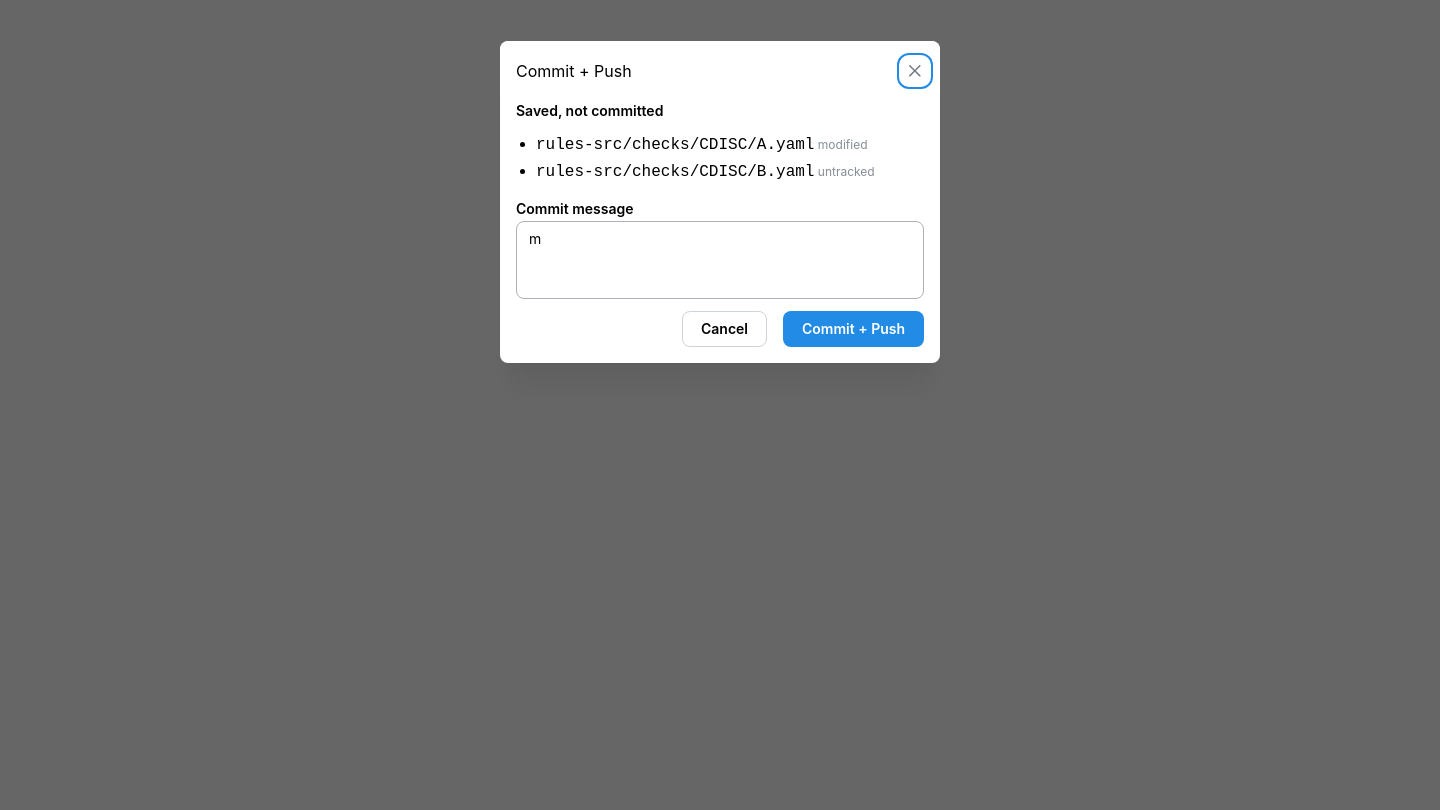
Test: CommitPushDialog › shows a plain error
Click the button "Commit + Push" at (854, 329), box [783,311,924,347]
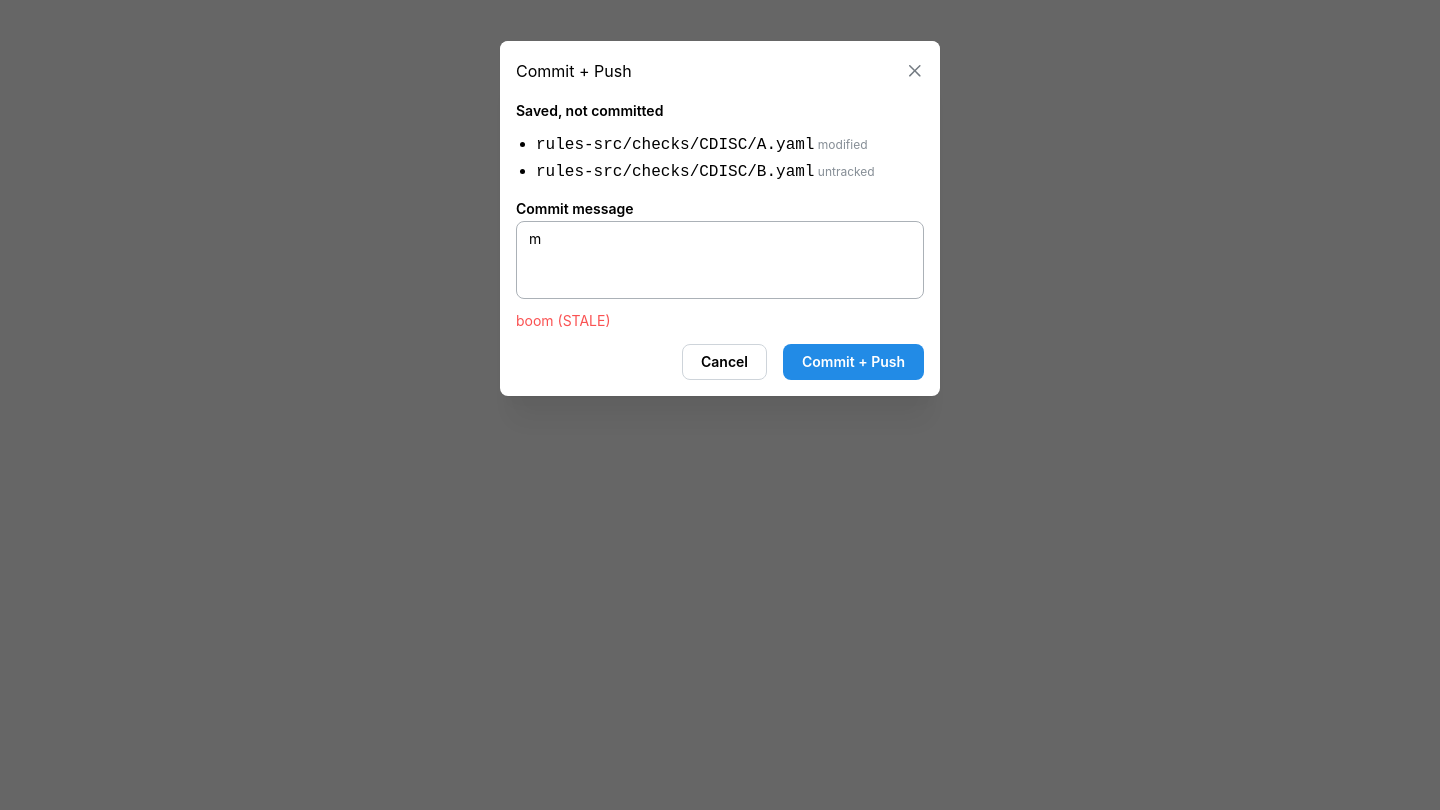
expect the text "boom (STALE)" is shown: met, box [516,312,610,329]
